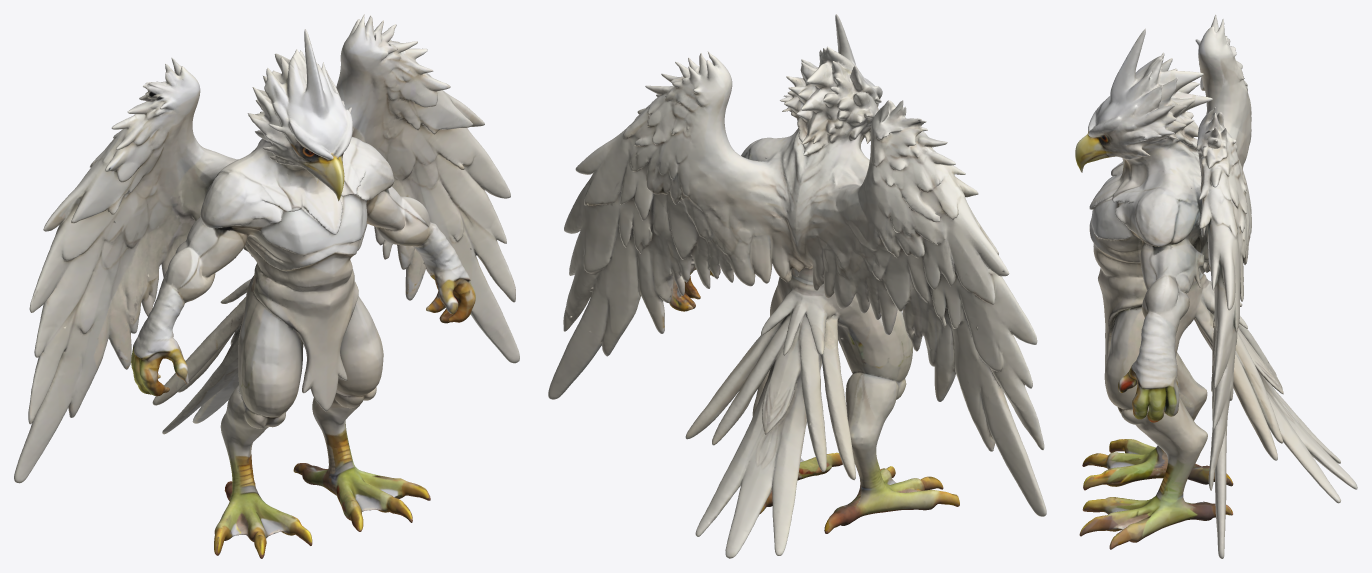
The model's file is LowPolyBirdMed.fbx.
The picture shows the model from 3 angles, left to right: view 1: azimuth 30°, elevation 25°; view 2: azimuth 150°, elevation 25°; view 3: azimuth 270°, elevation 25°; orthographic projection. The views are drawn at different scales.
Parts seen in each view (by area): view 1: Mesh_0; view 2: Mesh_0; view 3: Mesh_0.
Boxes of the visible parts, left/top/right/bottom form: Mesh_0: left=14, top=14, right=519, bottom=558; Mesh_0: left=548, top=14, right=1046, bottom=558; Mesh_0: left=1075, top=14, right=1357, bottom=558.
Size of the model in its own units: 108 by 100 by 53.96.
1 material, 1 textured.
